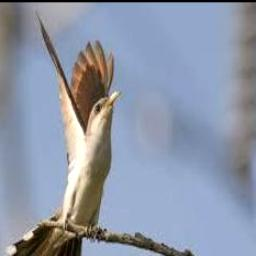Cuckoo: (7, 14, 122, 256)
